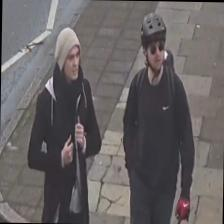person: (121, 12, 197, 224), (25, 26, 102, 223)
